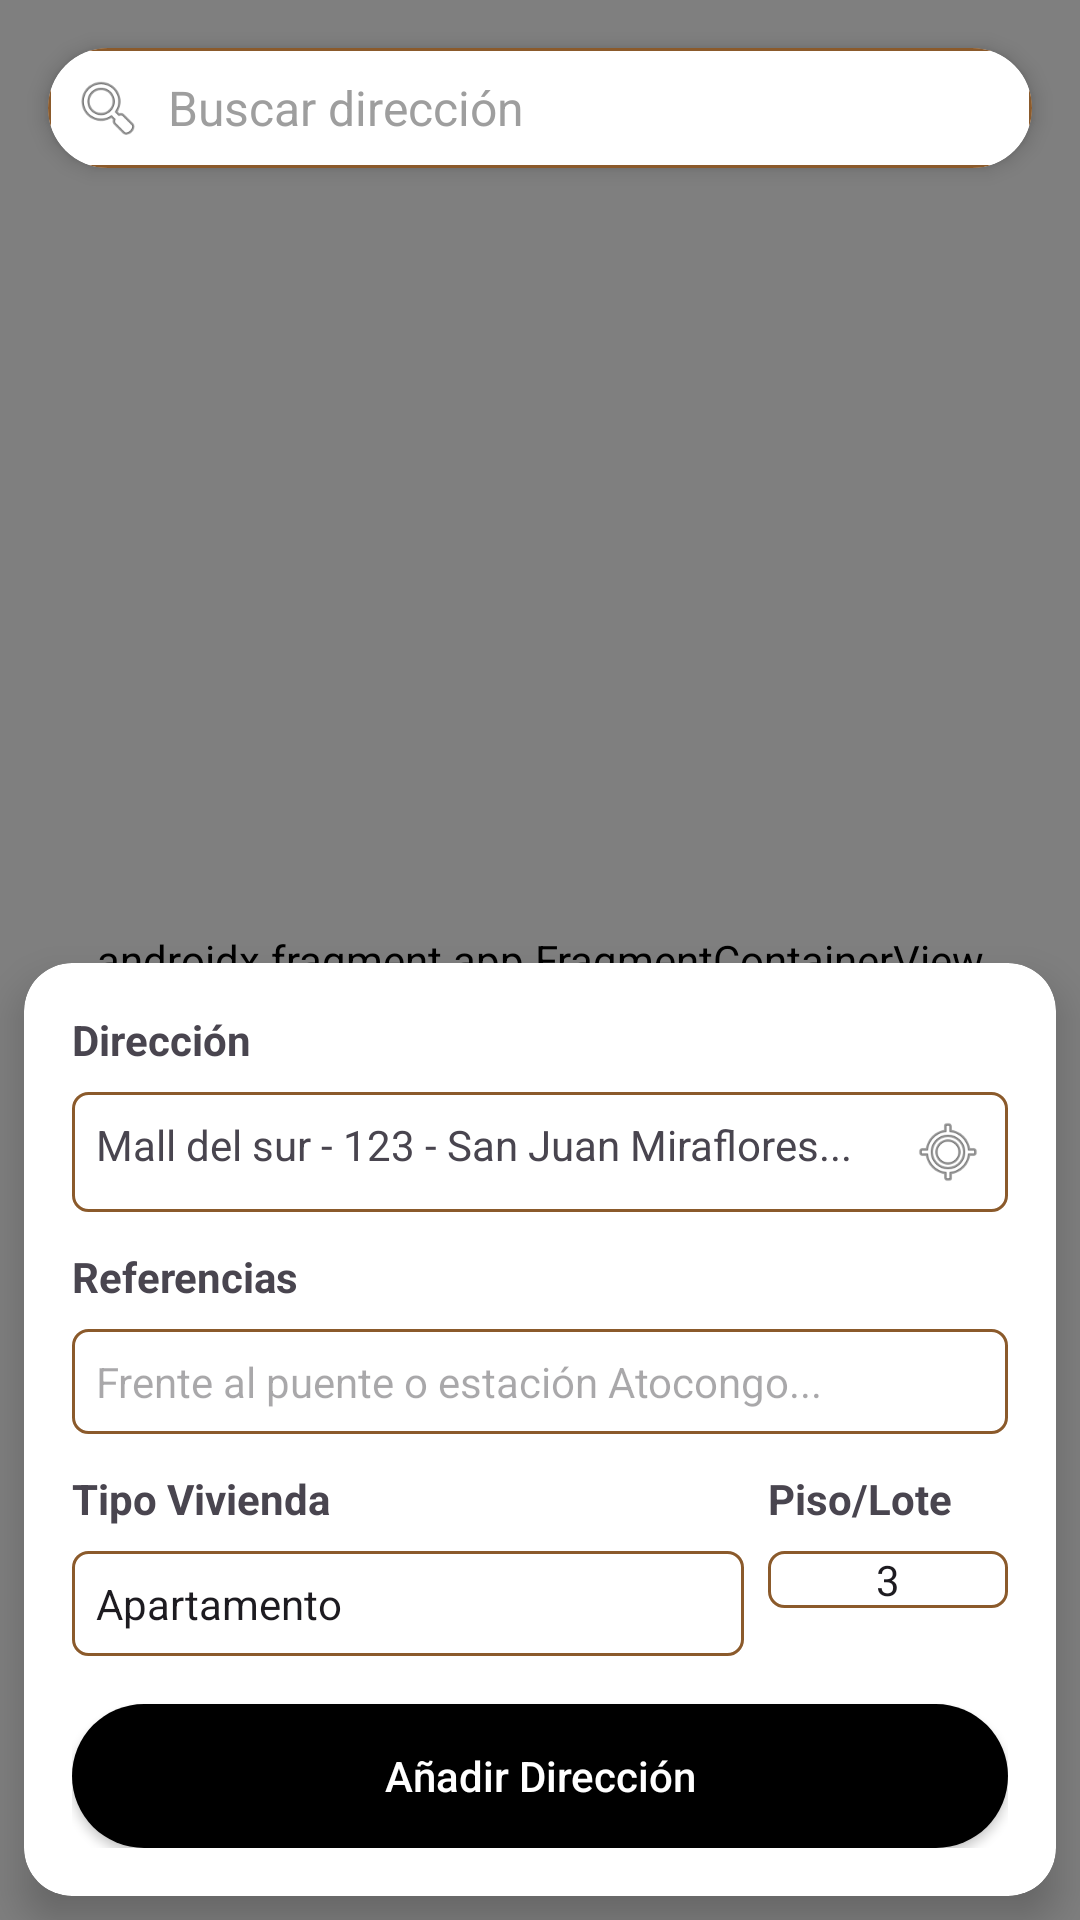

Point at icon controls on the screen. Image size 1080×1920, points as (x,y).
mylocation: (948,1152)
search: (108,108)
